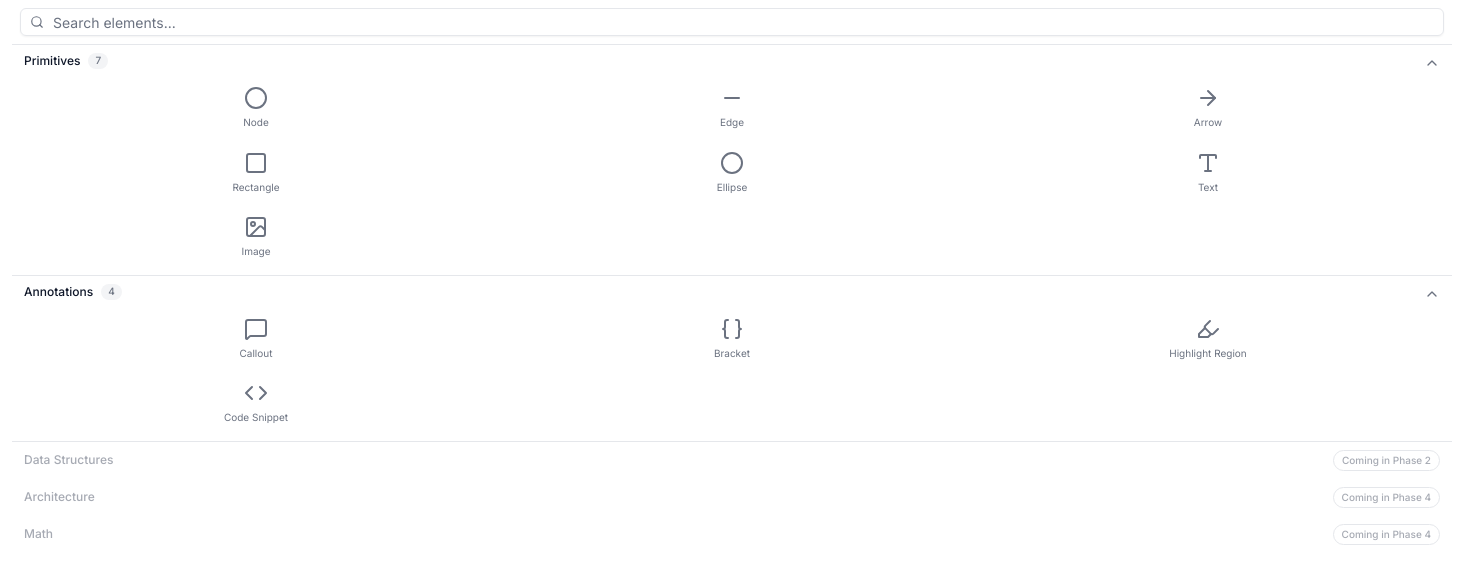
Test case: ElementLibrary › filters elements by search query
The image size is (1464, 562).
In the field with placeholder "Search elements...": (732, 22) [20, 8, 1444, 36], type "arrow"
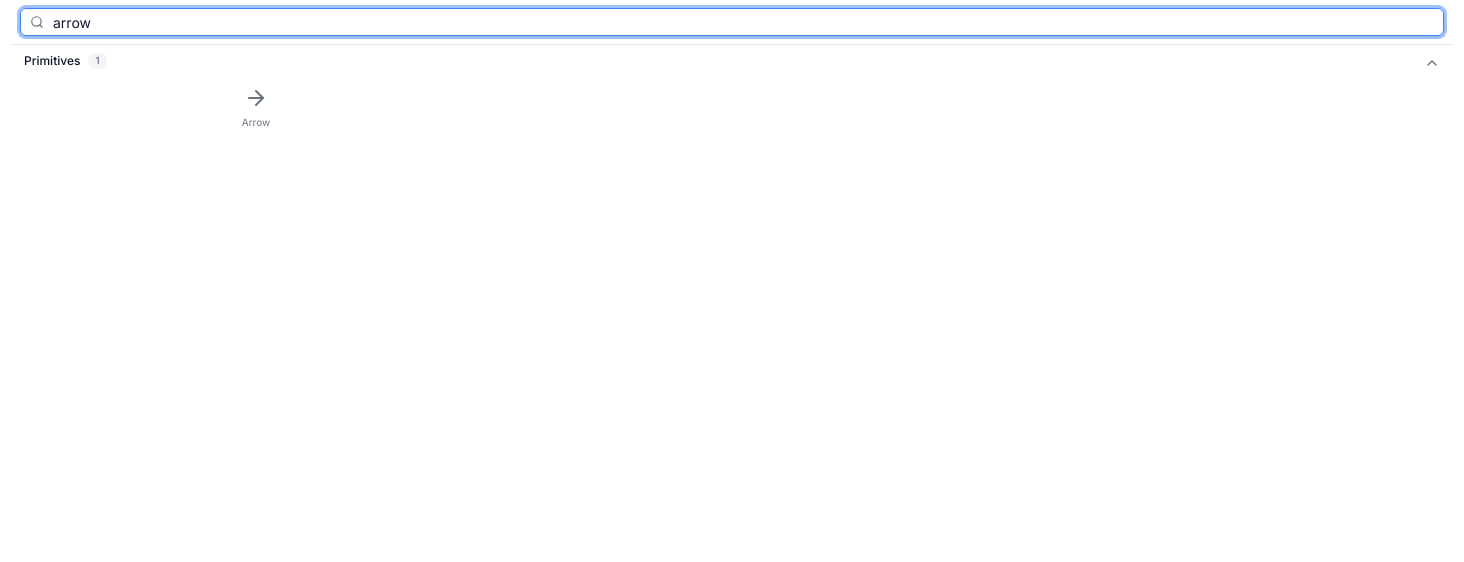
Expected: the text "Arrow" is shown, [242, 116, 270, 128]
Now the button "Node" is gone
